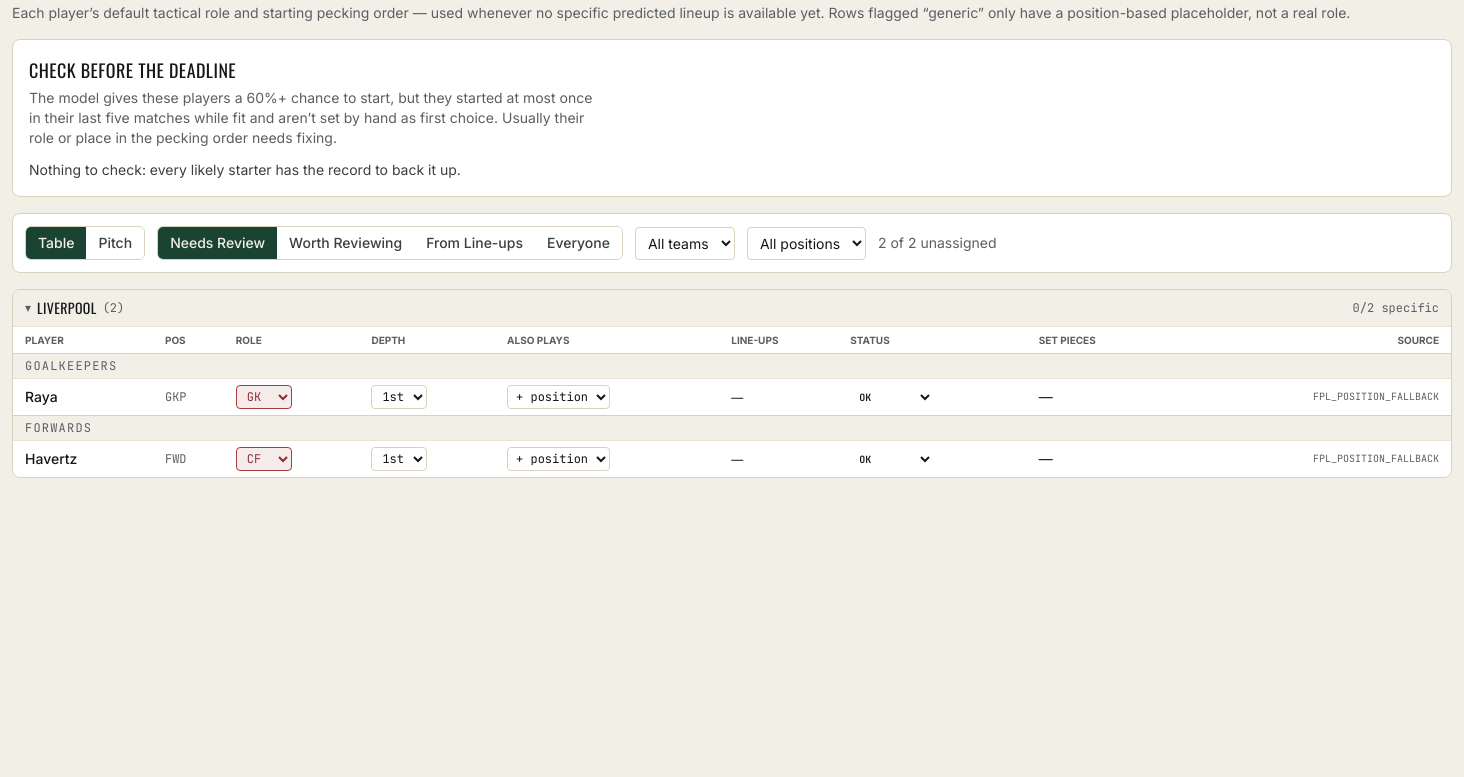
Test: TacticalRolesAdminPage › "Worth Reviewing" is a scope filter applied to the Table AND Pitch team views, not a separate list
Expected: the button "Everyone" is shown, [535,227,622,259]
Click the button "Worth Reviewing". click: (346, 243)
box: [277,227,414,259]
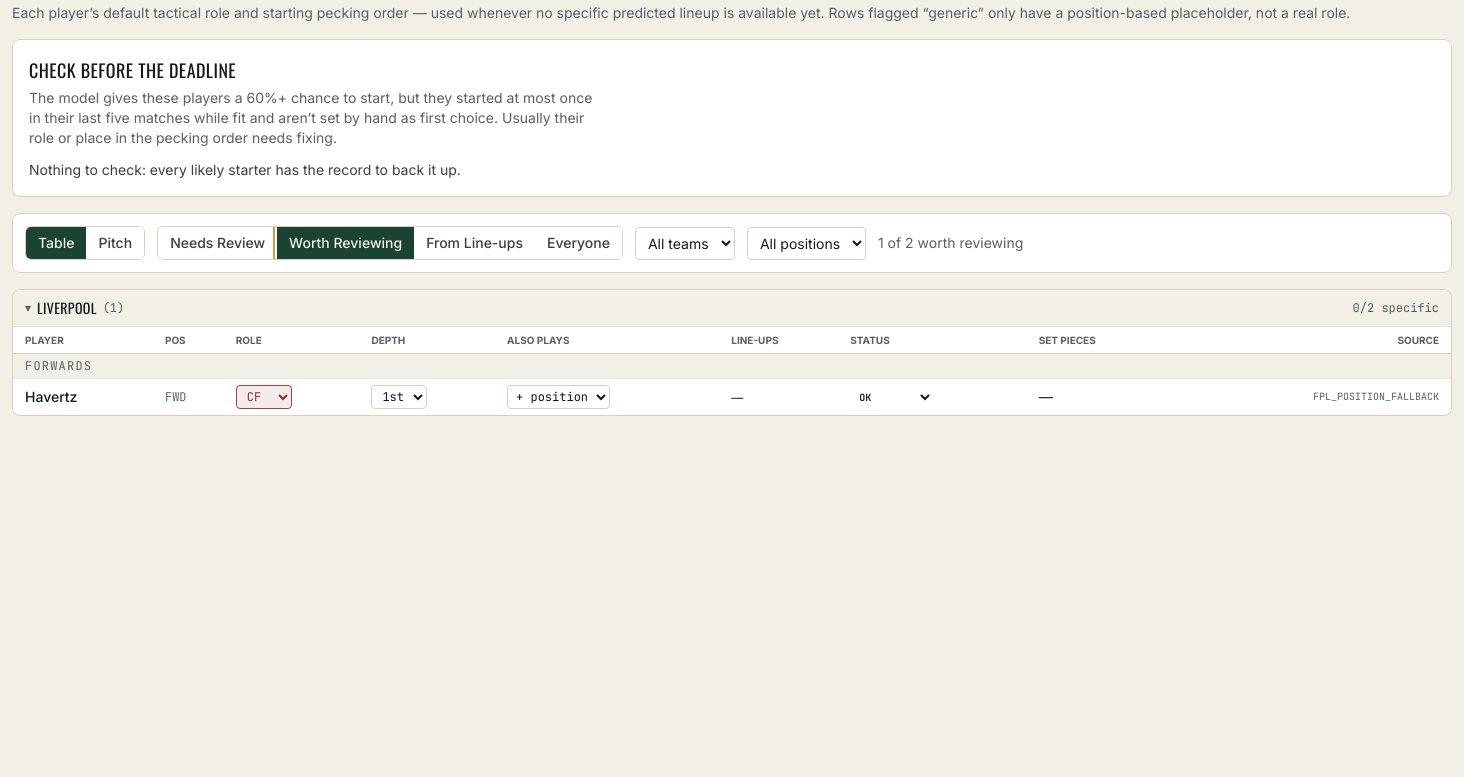
Expected: the text "Havertz" is shown, [13,379,157,415]
Result: the text "Raya" is gone
Click the button "Pitch". click: (115, 243)
box: [86,227,144,259]
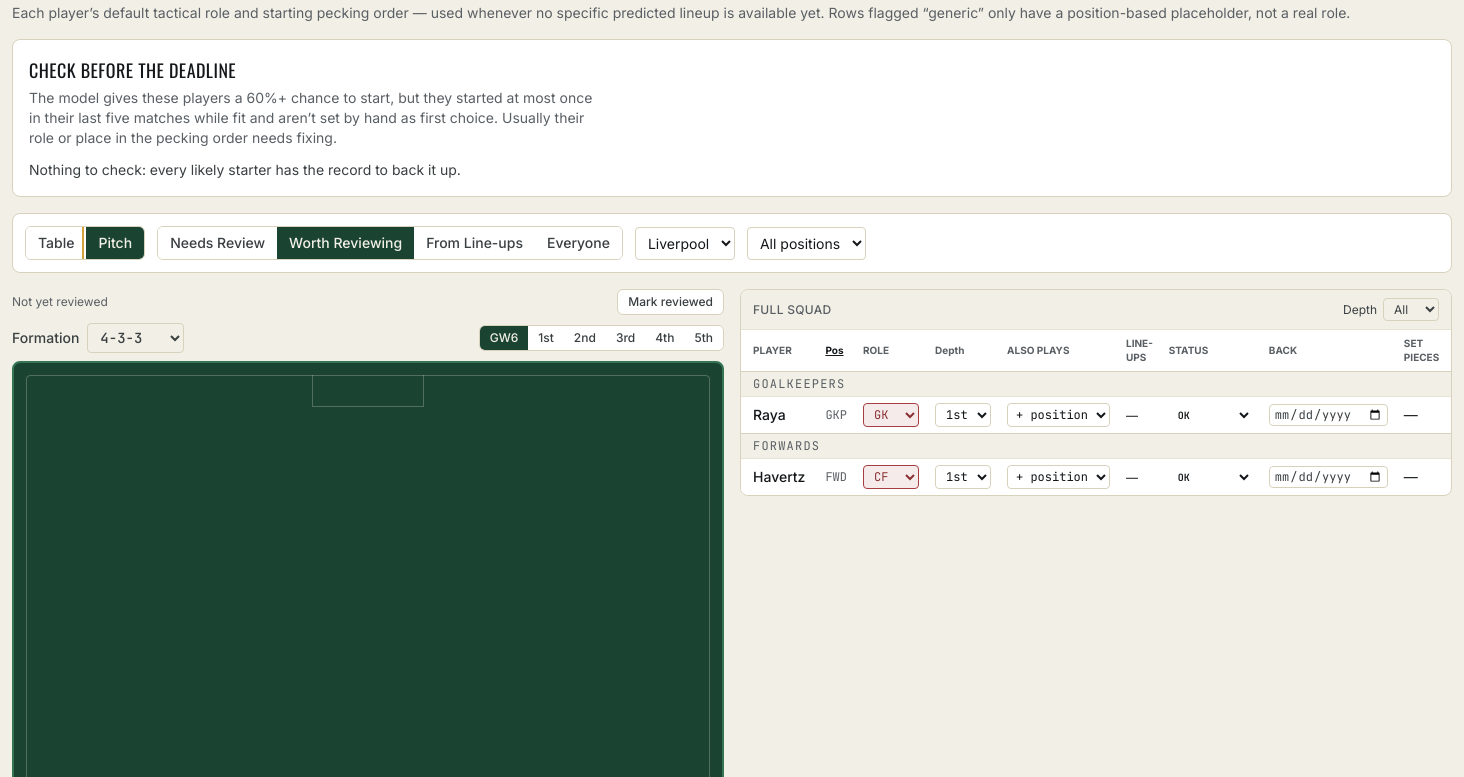
Click the button "1st". click: (546, 338)
box: [528,326,564,350]
(page scrolled)
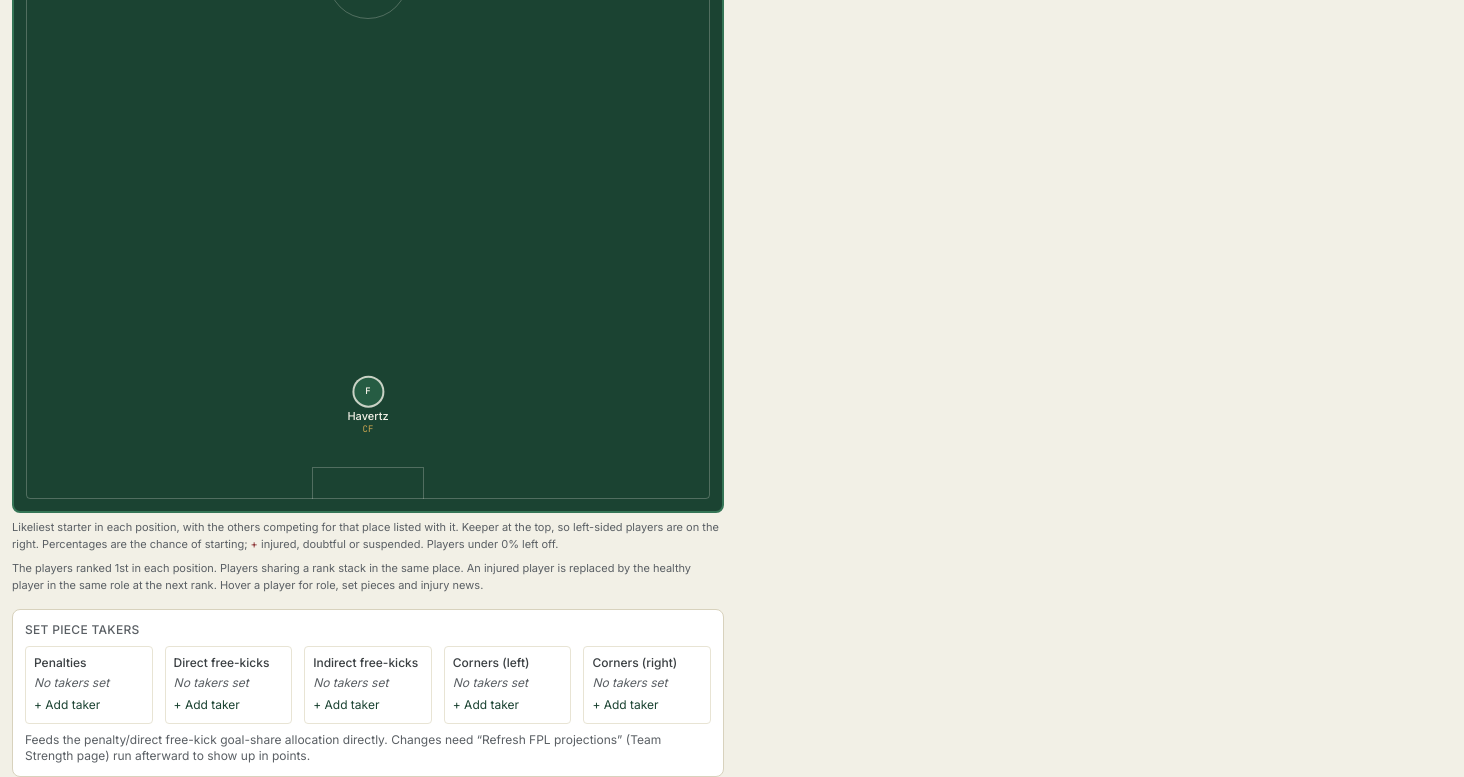
Result: the button "F Havertz CF" is shown at [347,375,389,434]
